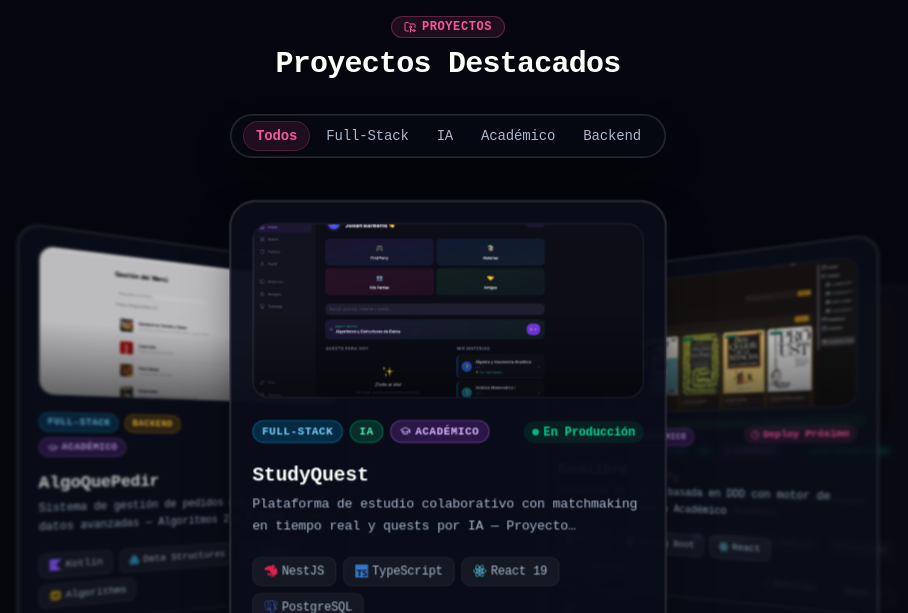
Projects Component (src/components/Projects.tsx) › Category Filtering › filters to only Backend projects (AlgoQuePedir) when clicking 'Backend'
The image size is (908, 613).
Click the tab "Backend" at (612, 136), box [571,122,653,150]
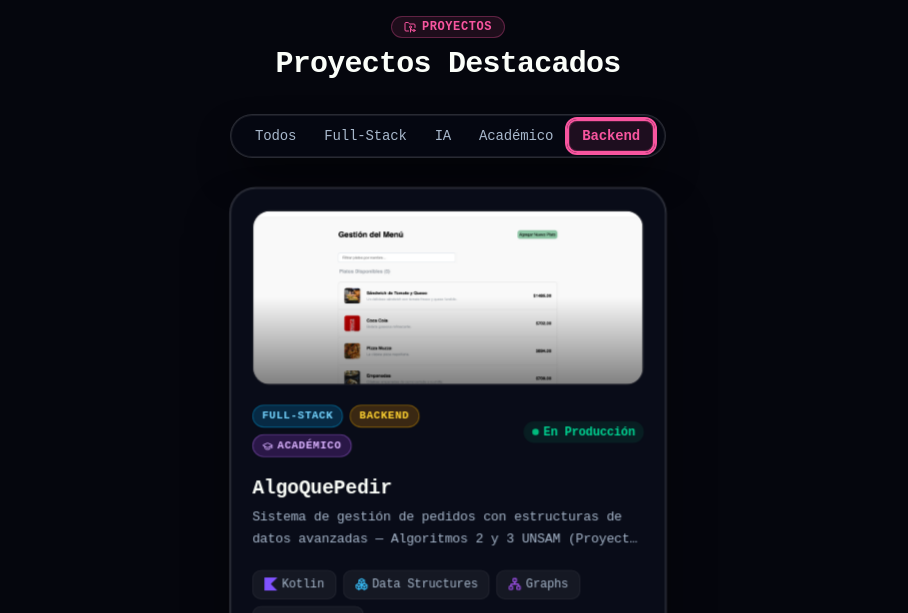
Expected: the heading "AlgoQuePedir" is shown, [252,476,392,498]
Expected: the heading "StudyQuest" is gone
Expected: the heading "SQLify" is gone
